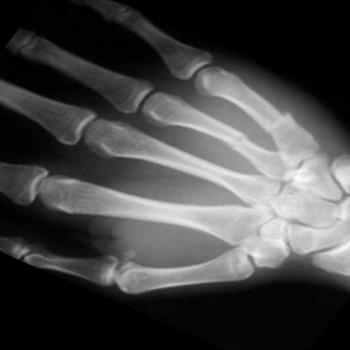Fracture: (260, 109, 298, 133), (231, 126, 251, 146)
